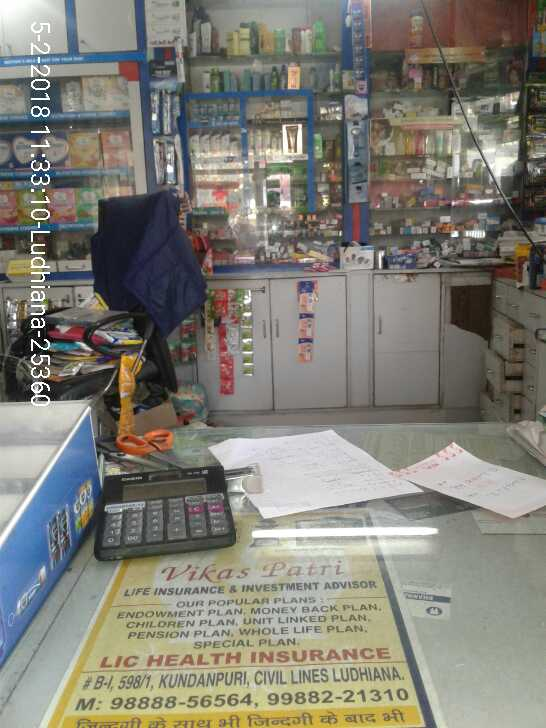vicks: (191, 99, 243, 122)
